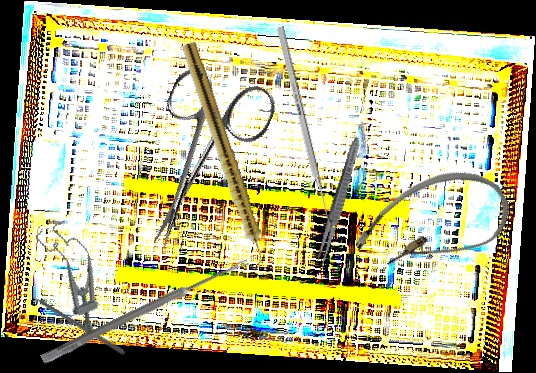Cannula: (344, 150, 521, 300)
Dressing Forceps: (313, 135, 364, 271)
Handpiece: (176, 40, 273, 272)
Iris Scissors: (113, 56, 282, 267)
Pusher: (275, 26, 335, 232), (20, 286, 127, 356)
Speculum: (33, 215, 119, 344)
Surgical Spoon: (40, 255, 250, 366)
